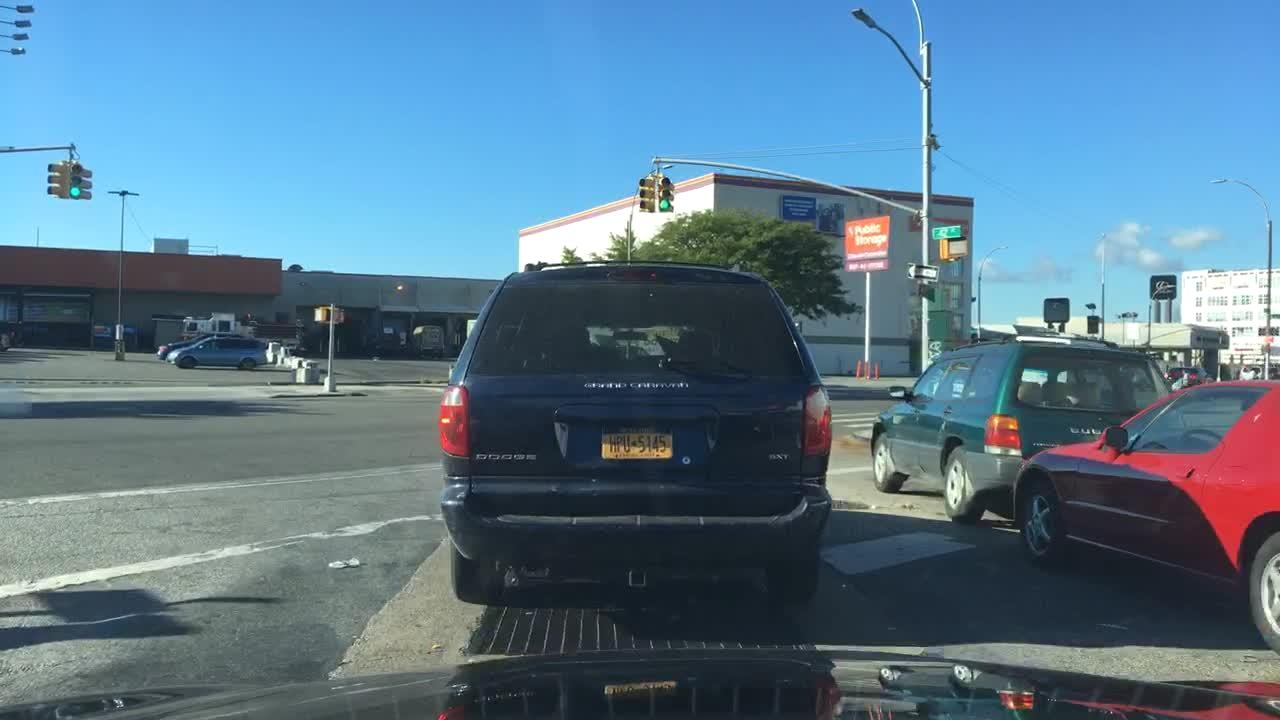dodge: (461, 447, 547, 475)
